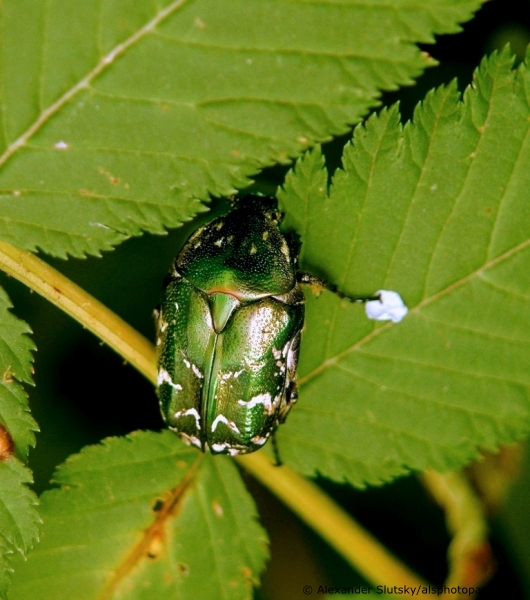Protaetia_metallica: (139, 192, 368, 479)
